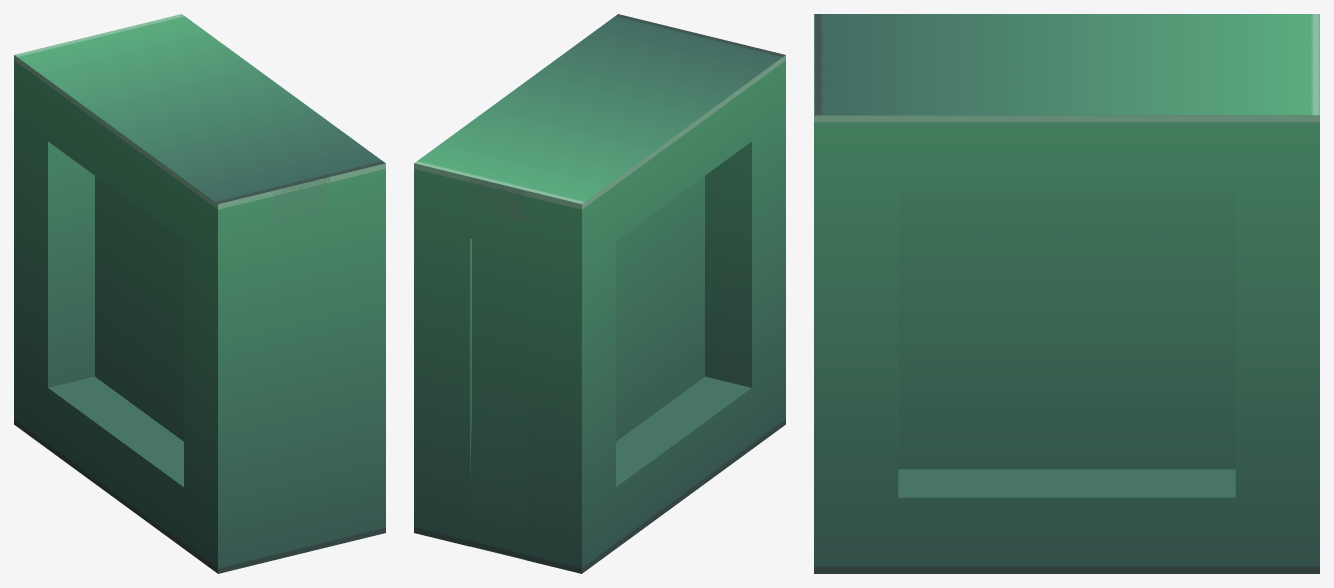
Rendered from coin.FBX.
3 renders of one model, left to right at view 1: azimuth 30°, elevation 25°; view 2: azimuth 150°, elevation 25°; view 3: azimuth 270°, elevation 25°, orthographic. The views are drawn at different scales.
Visible parts, largest first — view 1: Box002; view 2: Box002; view 3: Box002.
Boxes of the visible parts, <box> form: Box002: <box>14,14,385,573</box>; Box002: <box>414,14,785,573</box>; Box002: <box>814,14,1319,573</box>.
Bounding box in the file's own units: 14.24 × 30 × 30.
Materials: 1 (1 with a texture image).
